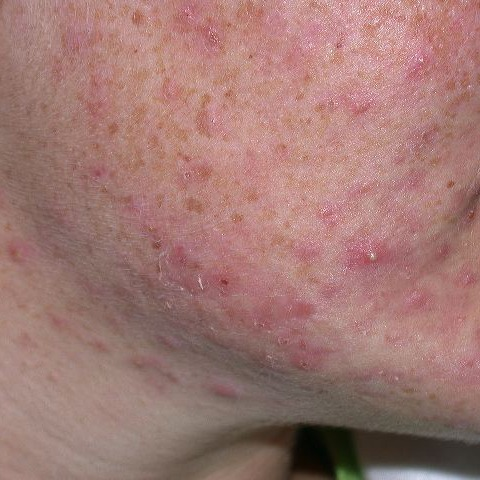Acne: (182, 244, 226, 310), (360, 239, 395, 290)
